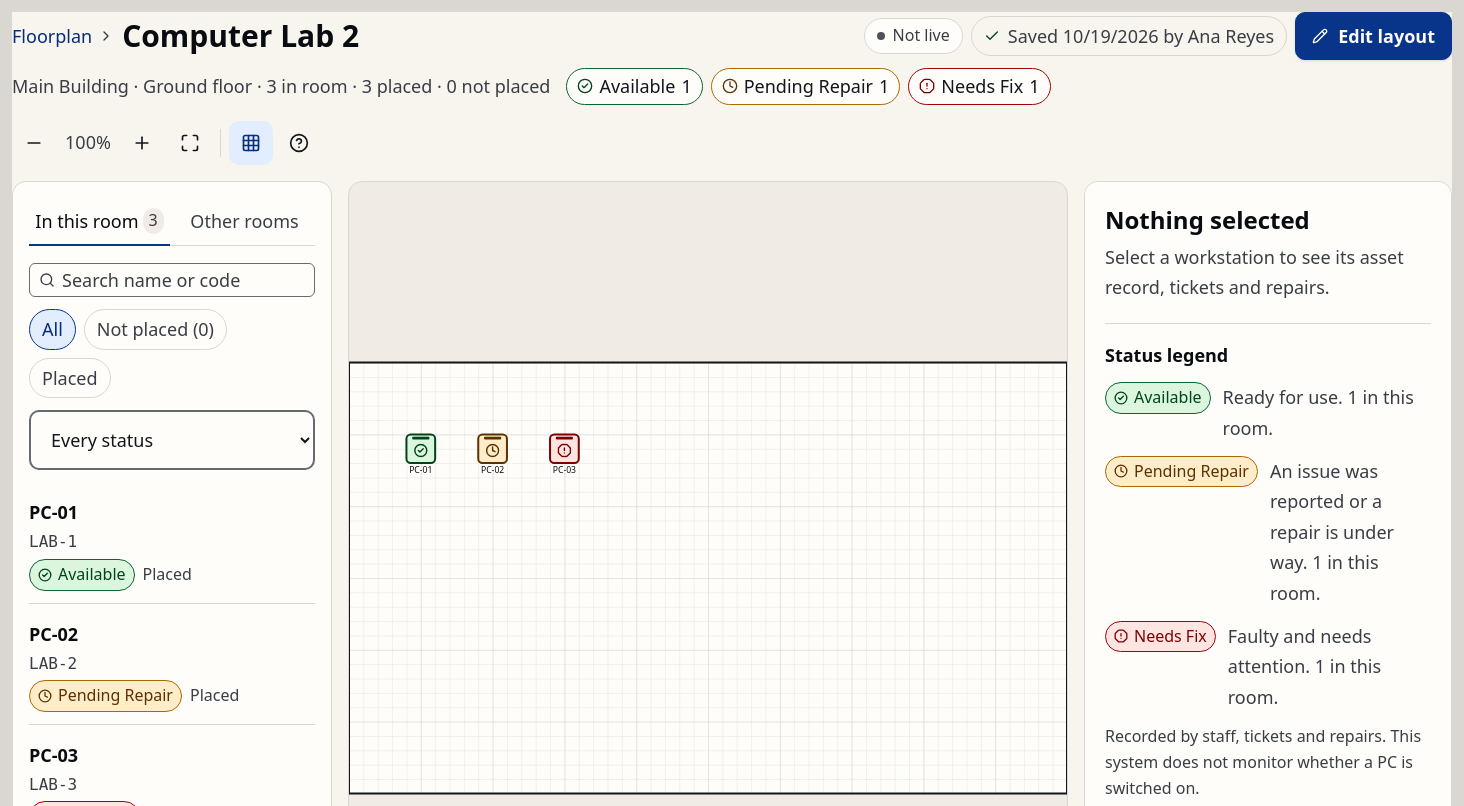
Test: editing and saving › closes the fixture menu on Escape and returns focus to its button
This screenshot has width=1464, height=806.
Expected: the heading "Computer Lab 2" is shown, [122, 15, 359, 57]
Click the button "Edit layout".
click(1374, 36)  # box [1295, 12, 1452, 60]
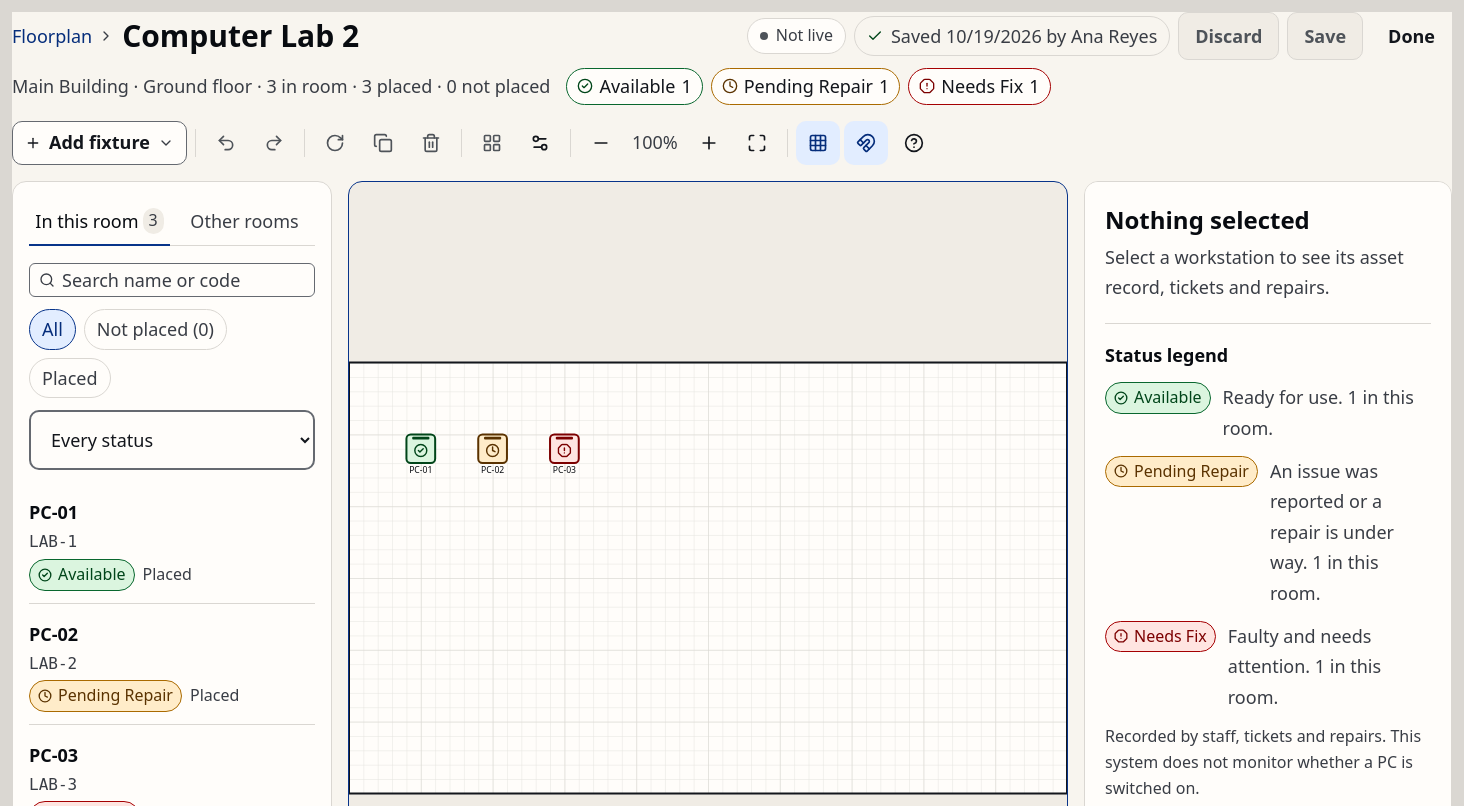
Click the button "Add fixture".
click(99, 143)  # box [12, 121, 187, 165]
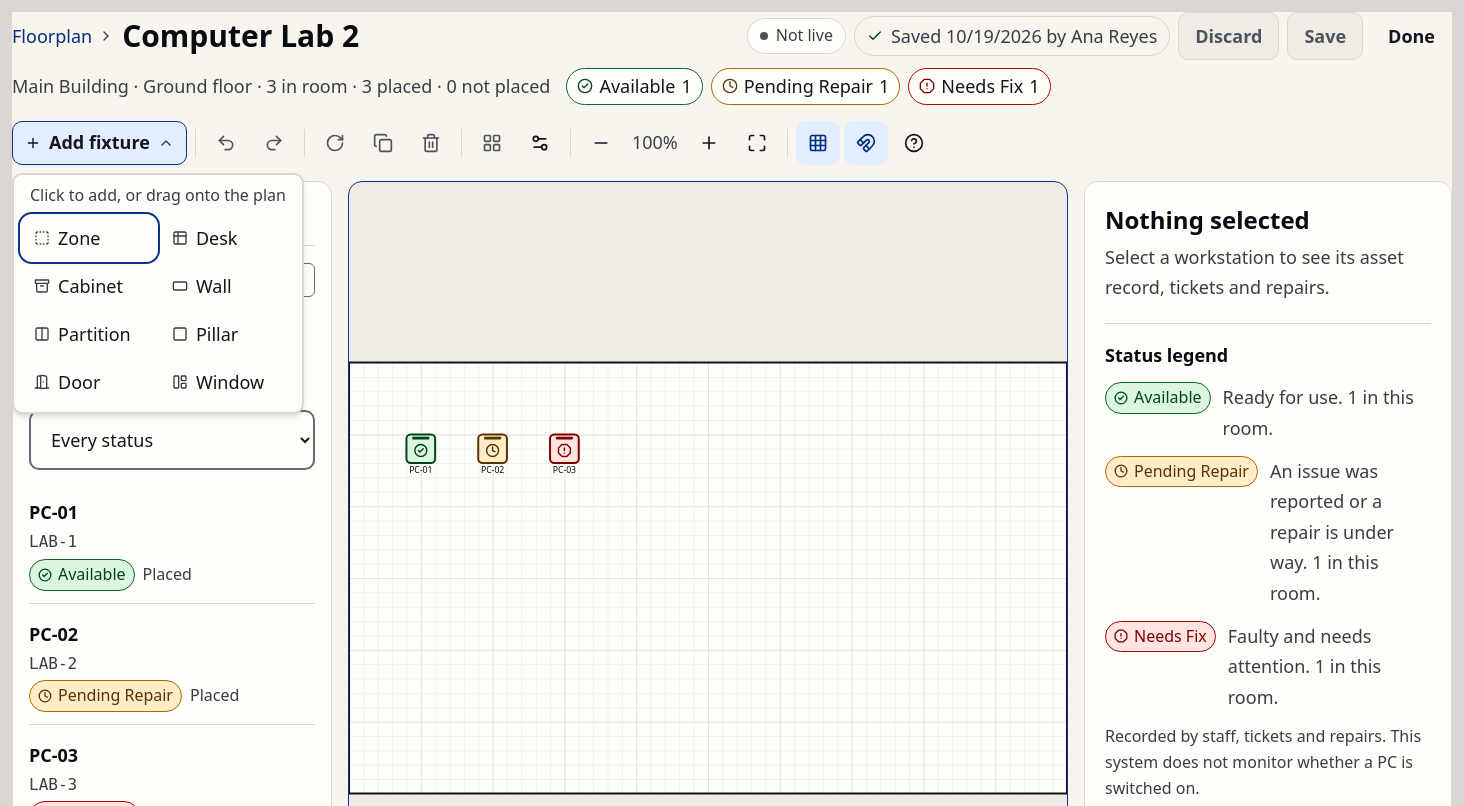
Press Escape
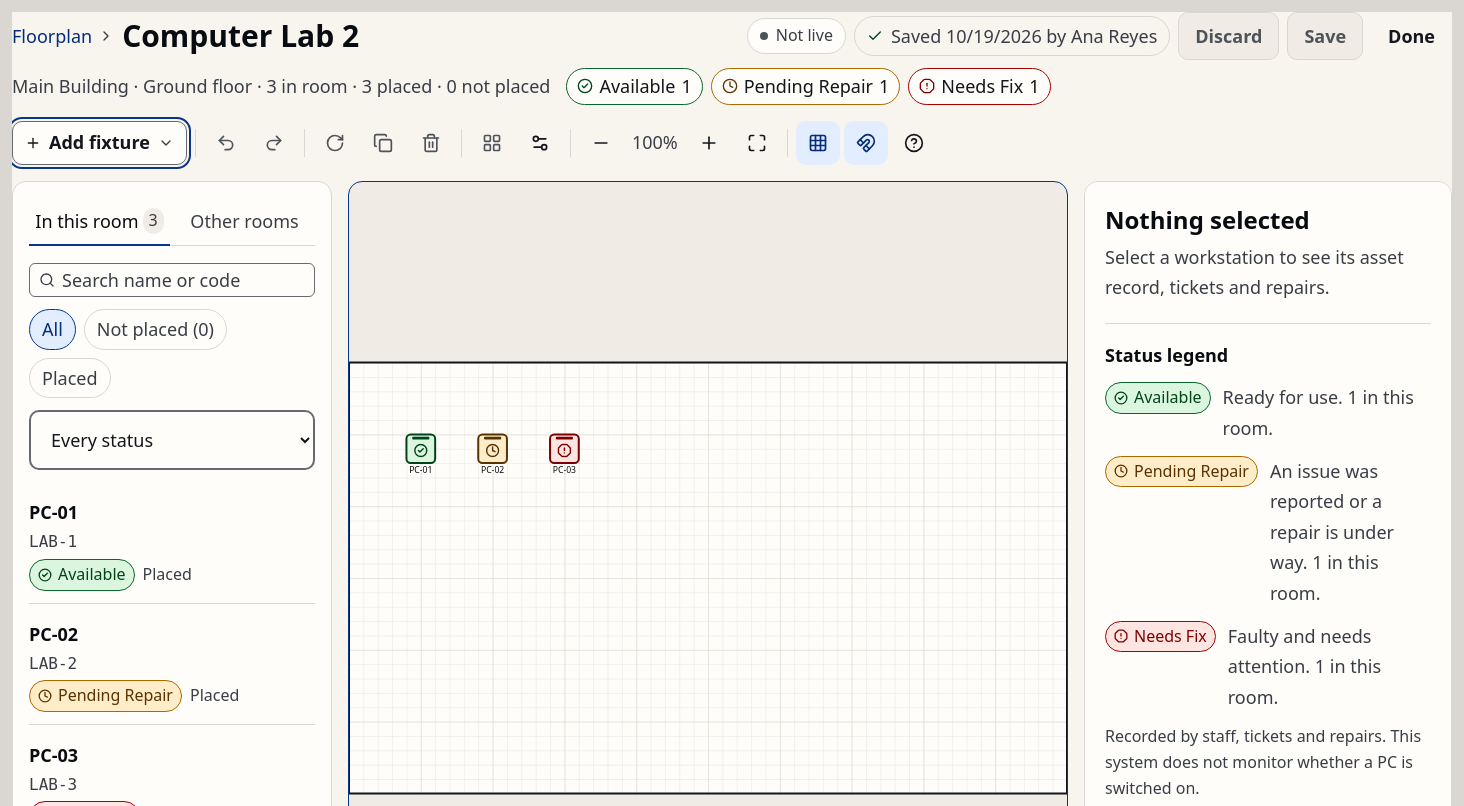
Now the button "Add fixture" is collapsed, box [12, 121, 187, 165]
